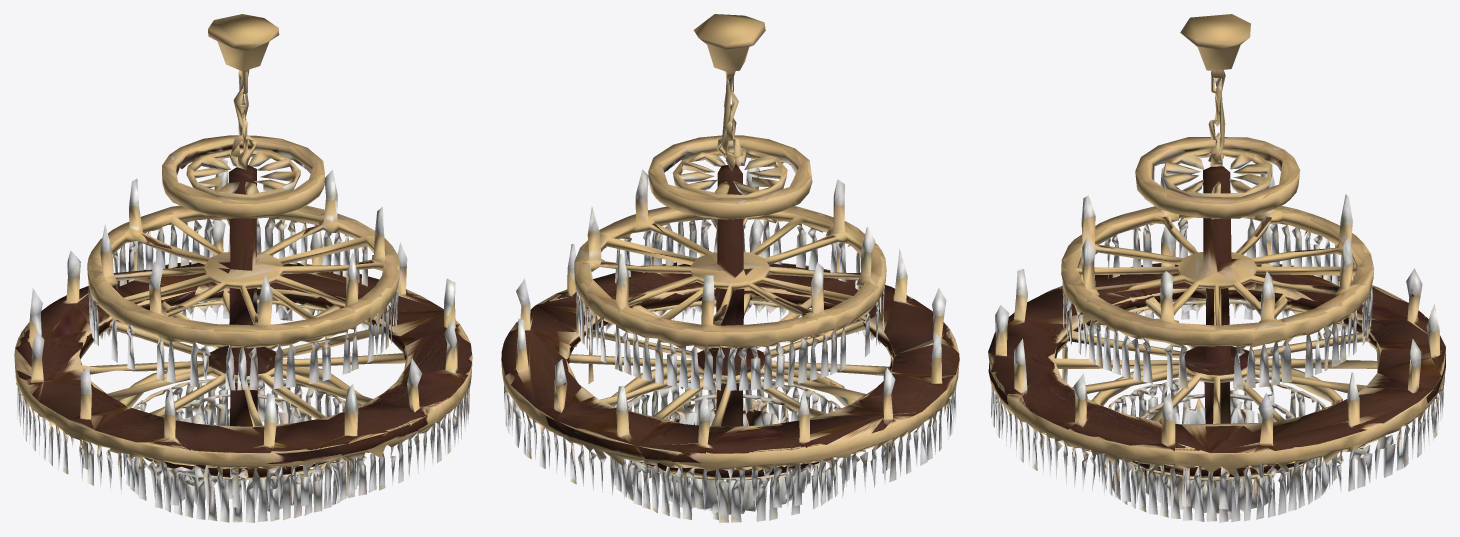
Rendered from chandelier.glb.
The picture shows the model from 3 angles, left to right: view 1: azimuth 30°, elevation 25°; view 2: azimuth 150°, elevation 25°; view 3: azimuth 270°, elevation 25°; orthographic projection.
Parts seen in each view (by area): view 1: Mesh_0; view 2: Mesh_0; view 3: Mesh_0.
Boxes of the visible parts, x1=… form: Mesh_0: x1=14, y1=14, x2=472, y2=522; Mesh_0: x1=501, y1=14, x2=959, y2=522; Mesh_0: x1=988, y1=14, x2=1445, y2=522.
Size of the model in its own units: 1.03 by 1.2 by 1.03.
1 material, 1 textured.
